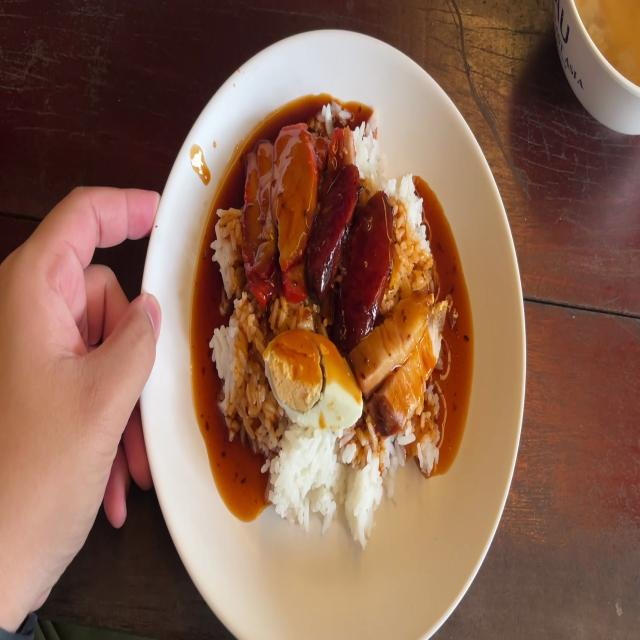red_pork_and_crispy_pork: (264, 332, 366, 434)
stir_fried_basil: (312, 168, 389, 345), (345, 196, 390, 340), (312, 160, 355, 286)
